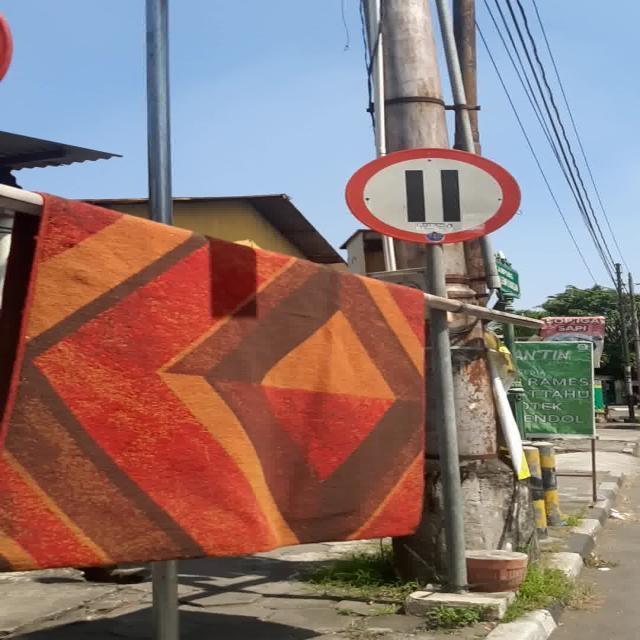Larangan Muatan - 10 ton: (346, 148, 522, 243)
